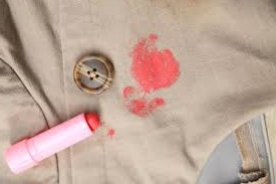lipstick: (128, 36, 184, 88), (120, 83, 157, 121), (131, 89, 170, 111), (106, 128, 114, 139)
